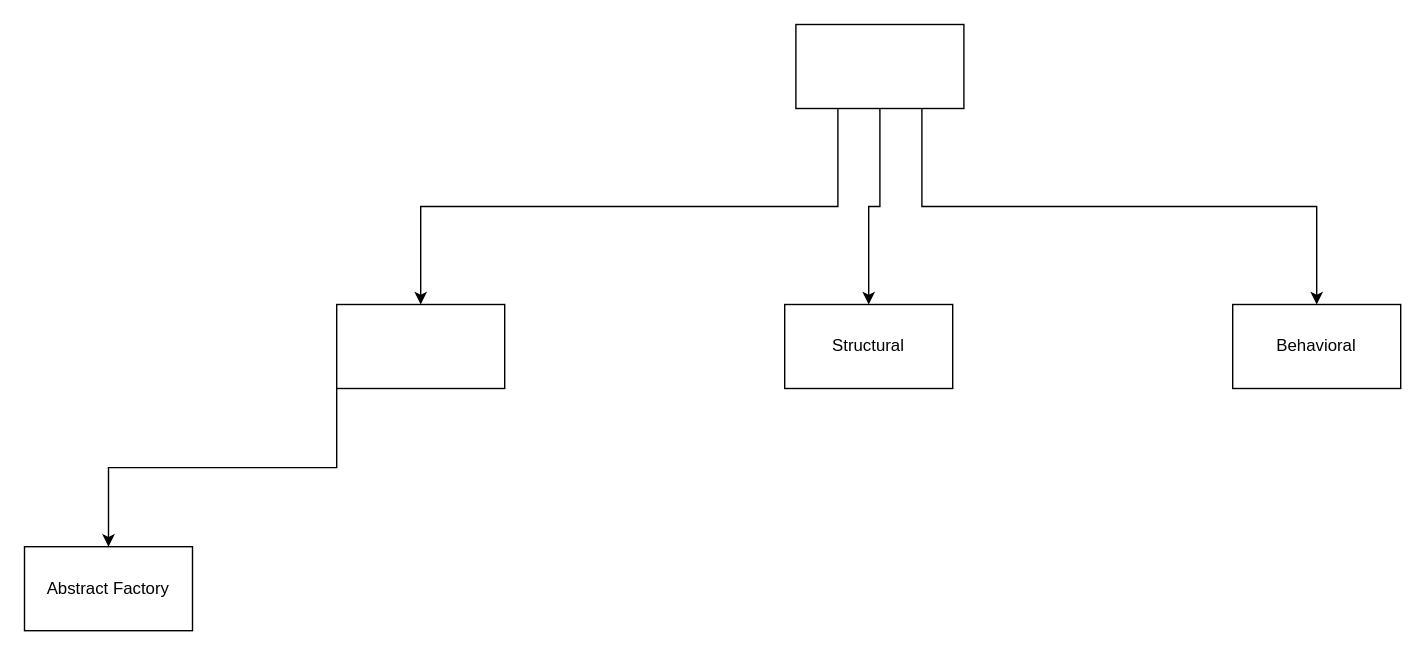
This 1425x655 diagram has some shape labels left out. The shapes that lost their labels are listed below. From the top down, each one's box as (x1, y1, x2, y2) in pixels, then its label:
(794, 23, 964, 108): Design Patterns
(335, 303, 505, 388): Creational
